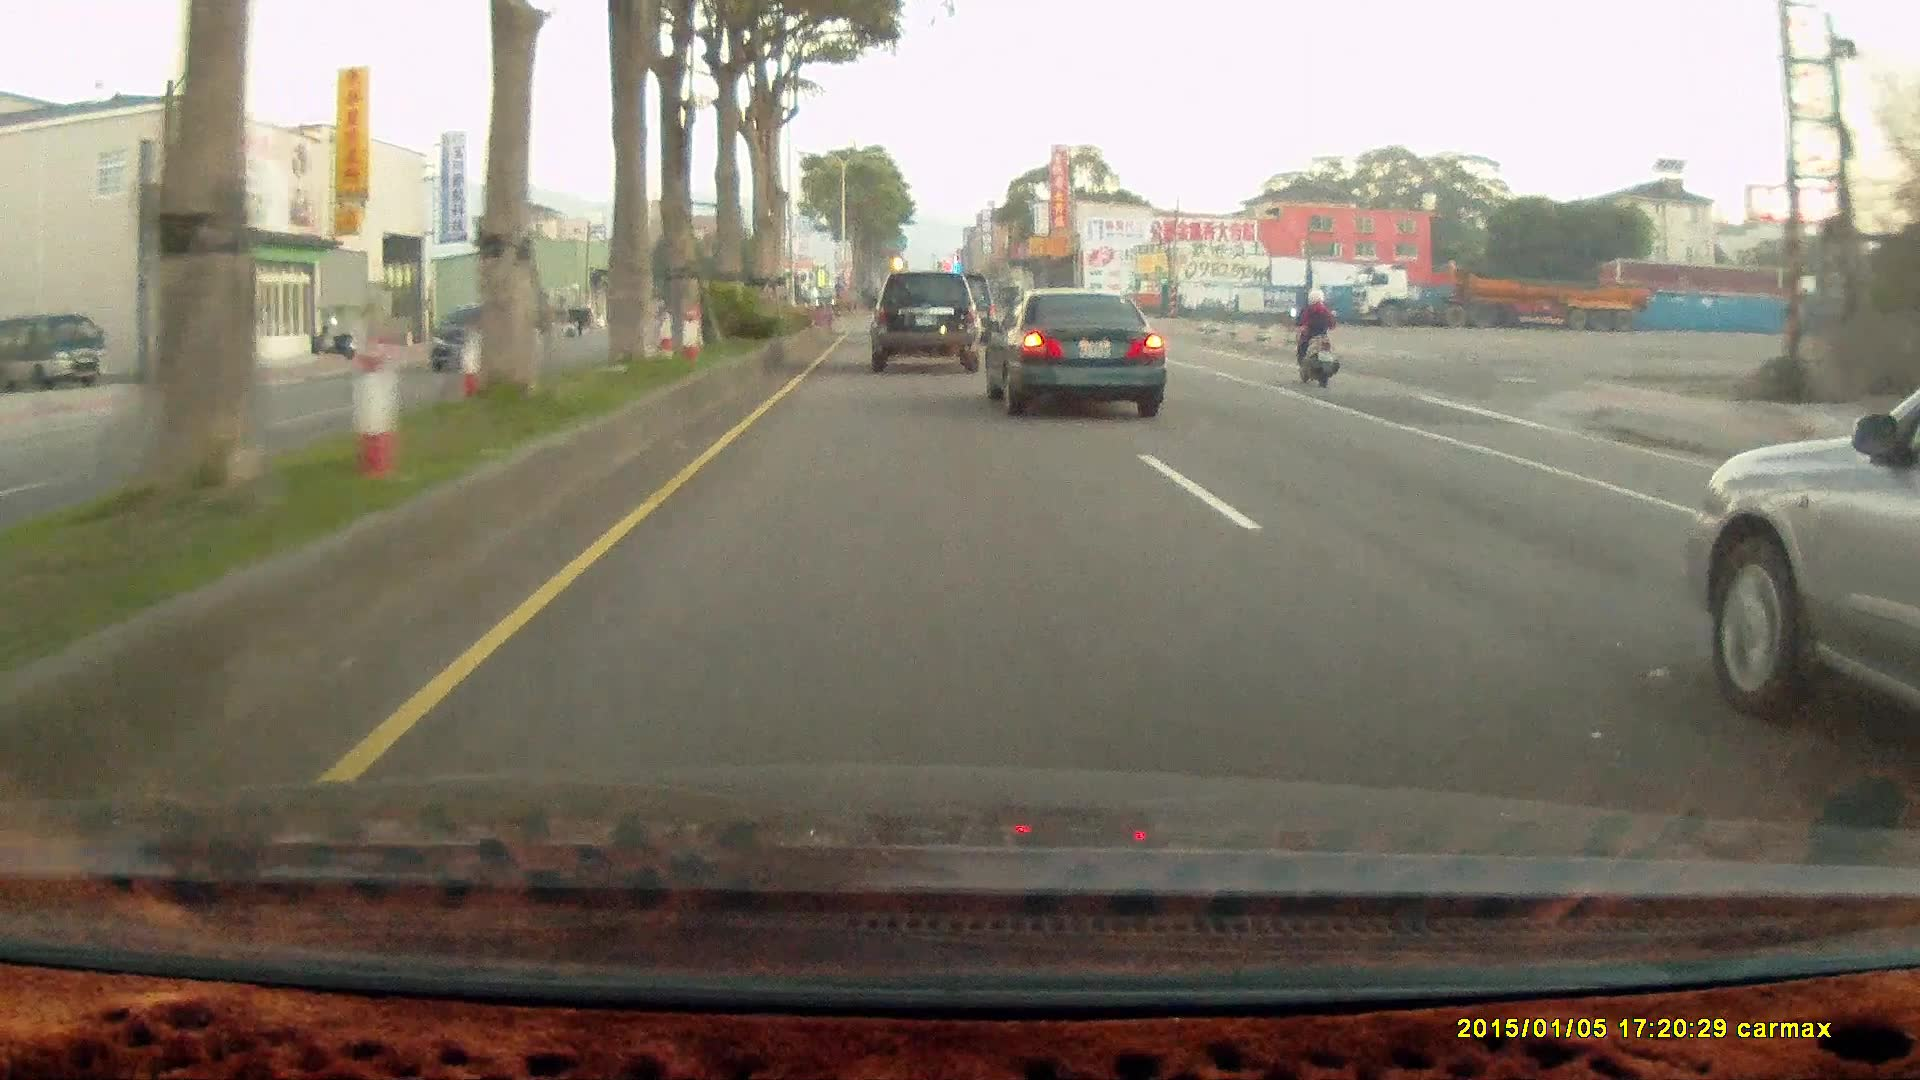pedestrian: (563, 304, 588, 335)
rider: (1280, 280, 1350, 395), (1288, 283, 1339, 384)
vehicle: (1690, 378, 1920, 735), (981, 287, 1165, 416), (986, 287, 1168, 416), (1352, 258, 1648, 328), (869, 265, 984, 372), (866, 268, 978, 369), (1, 309, 108, 387), (2, 311, 109, 389), (428, 299, 541, 373)
